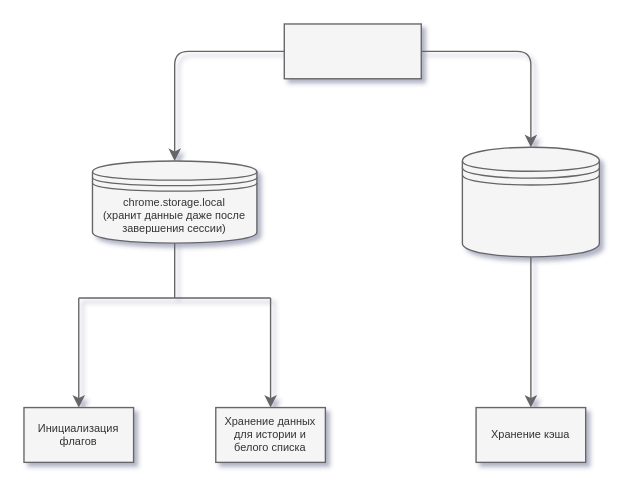
Image size: 632x495. Some labels were removed from this diagram. The centre of each missing label's shape, as x and y in pixels:
chrome.storage.session (хранит данные в течении сессии): the point at 530,201
Базы данных: the point at 352,51
